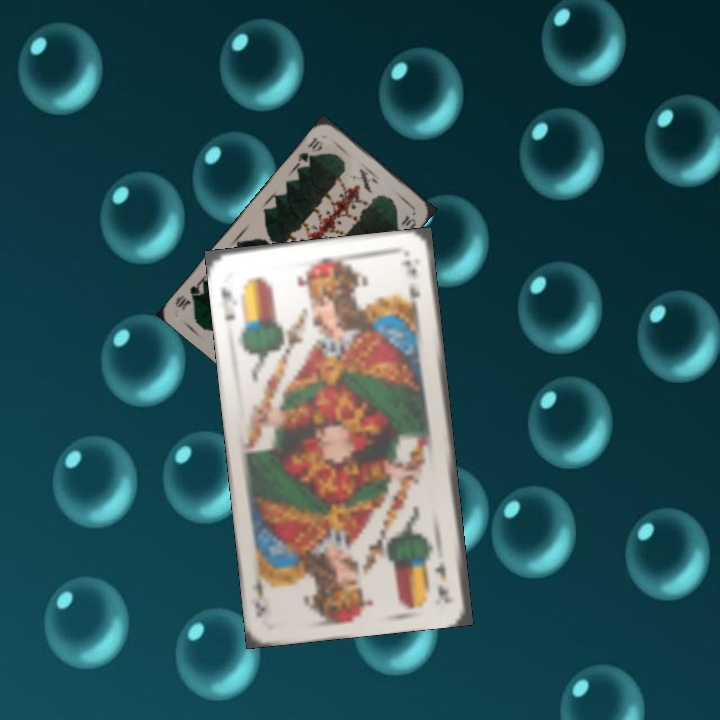EK: (217, 284, 238, 325), (432, 557, 451, 602)
G10: (294, 133, 325, 167)
